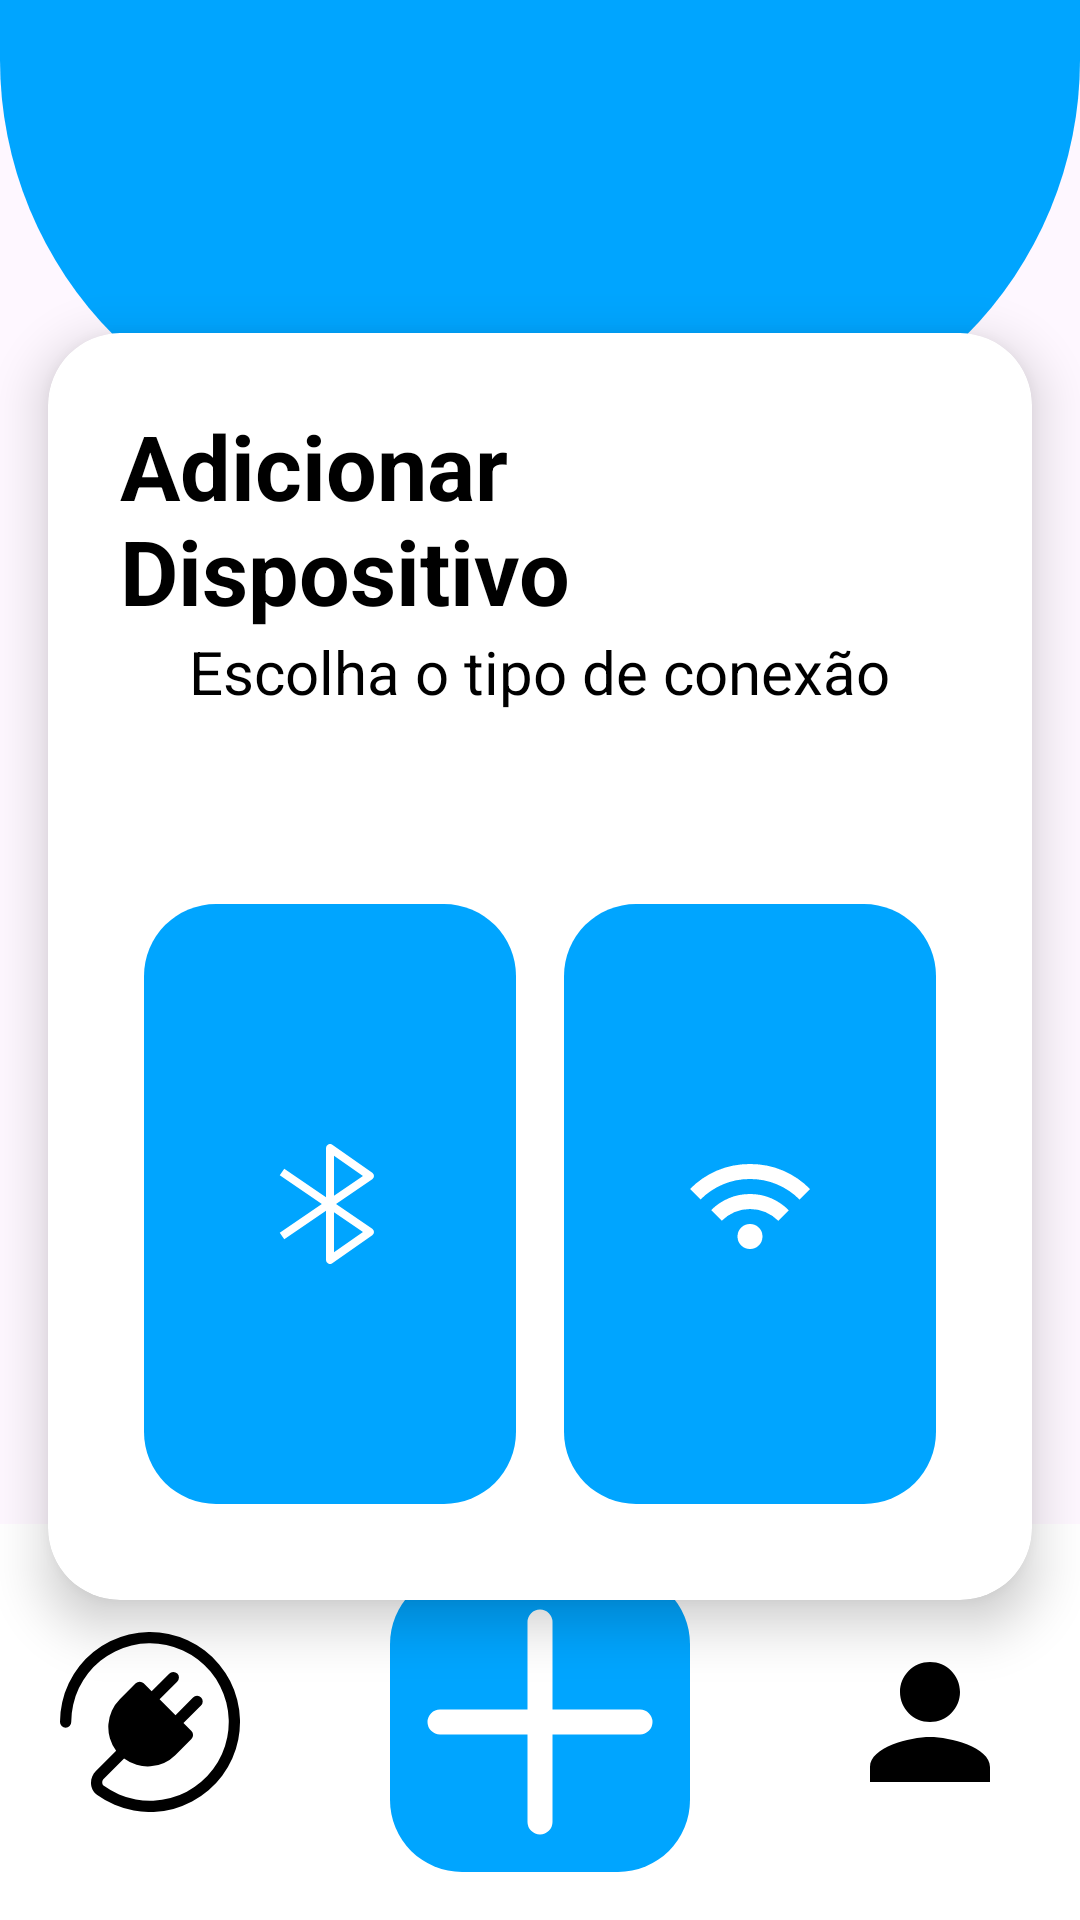

Where to tap for icons on this 1080*1920 app screen, as point (x, y):
Add: point (540, 1736)
bi plugin: point (150, 1722)
Profile: point (930, 1722)
